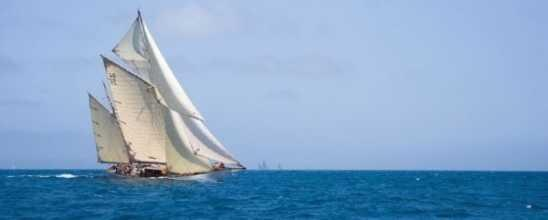fanchuan: (84, 17, 231, 179)
